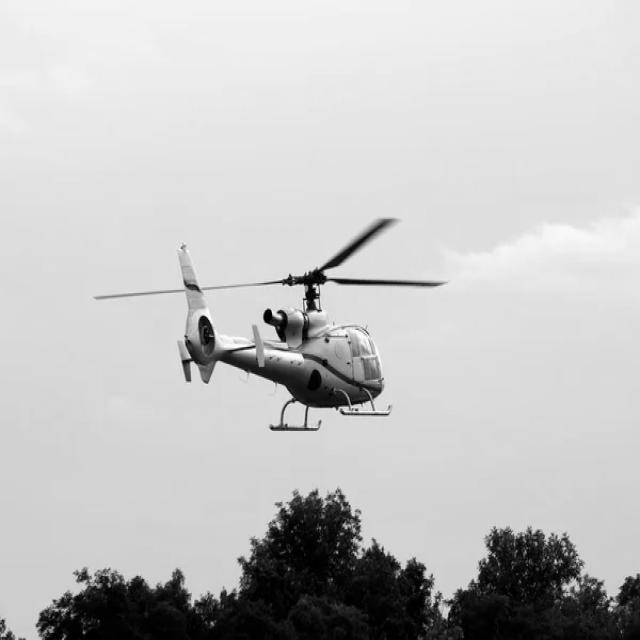Helicopter: (95, 218, 445, 432)
